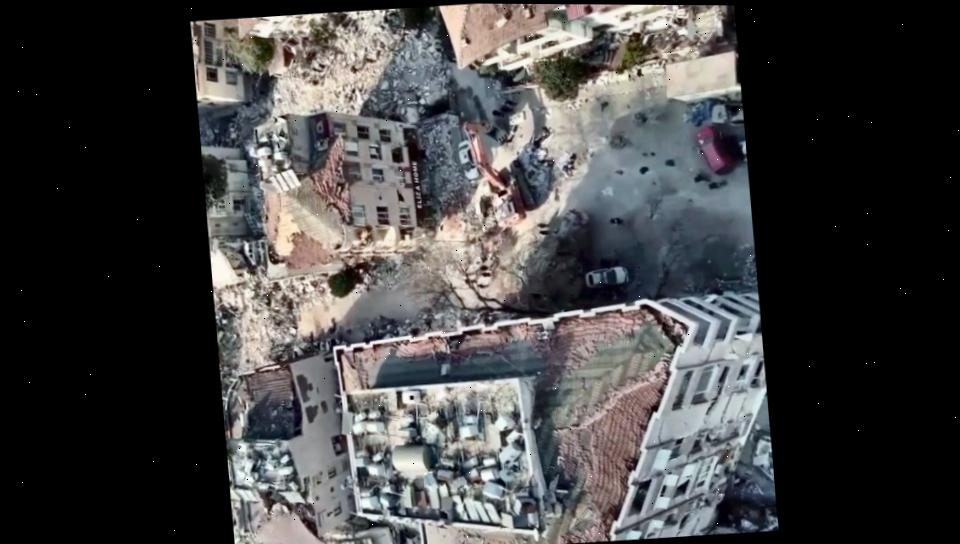kapali: (198, 21, 455, 146), (212, 272, 334, 359)
